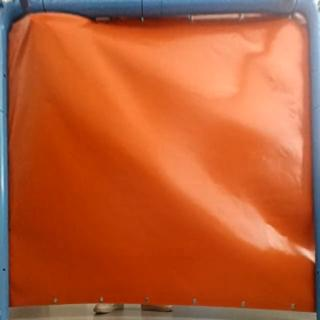Hit-hRxx: (26, 15, 37, 24)
